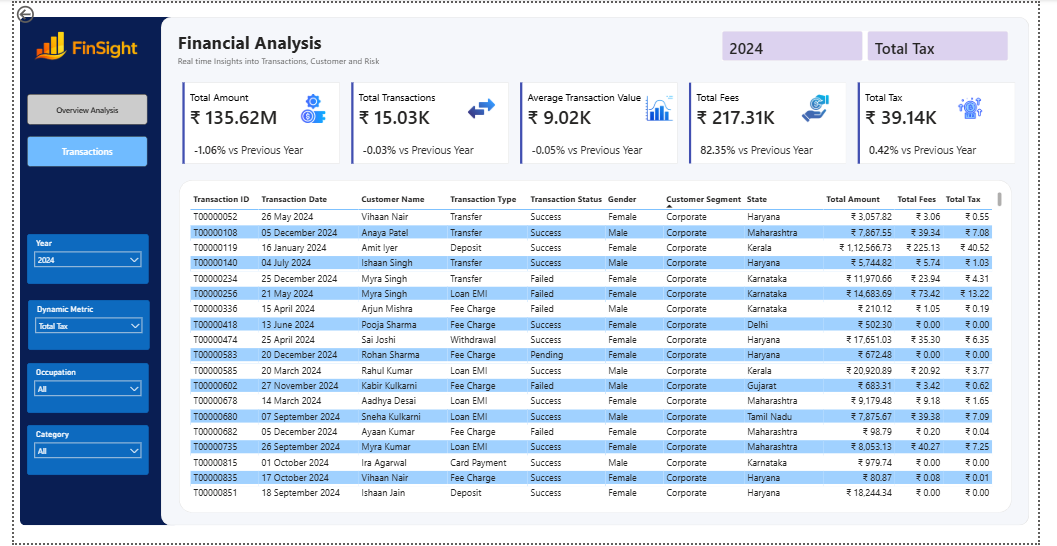

The page's visual inventory and layout, read from the dashboard file:
{"tool":"powerbi","page":{"name":"Transactions","canvas":[1800,950],"ordinal":1},"visuals":[{"type":"shape","box":[9.8,24.5,279.6,894.4],"z":0},{"type":"shape","box":[258.4,24.5,1527.3,894.4],"z":1000},{"type":"image","box":[0,39.2,258.4,73.6],"z":2000},{"type":"cardVisual","fields":{"Data":["finance_transactions.Dashboard Title"]},"box":[271.4,24.5,426.8,109.6],"z":3000},{"type":"cardVisual","fields":{"Data":["finance_transactions.Total Amount","finance_transactions.Total Transactions","finance_transactions.Average Transaction Value","finance_transactions.Total Fees","finance_transactions.Total Tax"]},"box":[289.4,134.1,1479.8,155],"z":4000},{"type":"image","box":[498.7,160.2,57.2,50.7],"z":5000},{"type":"image","box":[796.3,160.2,50.7,50.7],"z":6000},{"type":"image","box":[1385,160.2,50,50],"z":7000},{"type":"image","box":[1110.3,160.2,50,50],"z":8000},{"type":"image","box":[1656.4,160.2,50,50.7],"z":9000},{"type":"shape","box":[289.4,310.7,1465.1,585.4],"z":10000},{"type":"cardVisual","fields":{"Data":["finance_transactions.Selected Year","finance_transactions.Selected Dynamic Measure"]},"box":[1239.5,44.1,515.1,63.8],"z":11000},{"type":"tableEx","fields":{"Values":["finance_transactions.transaction_id","finance_transactions.transaction_date","customers.customer_name","finance_transactions.transaction_type","finance_transactions.transaction_status","customers.gender","customers.customer_segment","customers.state","finance_transactions.Total Amount","finance_transactions.Total Fees","finance_transactions.Total Tax"]},"box":[304.1,327,1439,554.3],"z":12000},{"type":"actionButton","box":[0,0,100,40],"z":13000},{"type":"slicer","fields":{"Values":["Calendar Table.Year"]},"box":[22.9,407.2,214.2,88.3],"z":14000},{"type":"slicer","fields":{"Values":["Dynamic Metric.Dynamic Metric"]},"box":[24.5,521.6,214.2,88.3],"z":15000},{"type":"slicer","fields":{"Values":["customers.occupation"]},"box":[22.9,632.8,214.2,88.3],"z":16000},{"type":"slicer","fields":{"Values":["finance_transactions.merchant_category"]},"box":[22.9,742.4,214.2,88.3],"z":17000},{"type":"pageNavigator","box":[22.9,160.2,212.6,129.2],"z":18000}]}

Visuals, with their boxes on the page's 1800x950 design canvas (x1, y1, x2, y2). These are canvas units, not pixel positions in the 1057x546 screenshot, which may show the page scaled, cropped or inside an application window:
shape: [x1=10, y1=24, x2=289, y2=919]
shape: [x1=258, y1=24, x2=1786, y2=919]
image: [x1=0, y1=39, x2=258, y2=113]
cardVisual - finance_transactions.Dashboard Title: [x1=271, y1=24, x2=698, y2=134]
cardVisual - finance_transactions.Total Amount x finance_transactions.Total Transactions: [x1=289, y1=134, x2=1769, y2=289]
image: [x1=499, y1=160, x2=556, y2=211]
image: [x1=796, y1=160, x2=847, y2=211]
image: [x1=1385, y1=160, x2=1435, y2=210]
image: [x1=1110, y1=160, x2=1160, y2=210]
image: [x1=1656, y1=160, x2=1706, y2=211]
shape: [x1=289, y1=311, x2=1754, y2=896]
cardVisual - finance_transactions.Selected Year x finance_transactions.Selected Dynamic Measure: [x1=1240, y1=44, x2=1755, y2=108]
tableEx - finance_transactions.transaction_id x finance_transactions.transaction_date: [x1=304, y1=327, x2=1743, y2=881]
actionButton: [x1=0, y1=0, x2=100, y2=40]
slicer - Calendar Table.Year: [x1=23, y1=407, x2=237, y2=496]
slicer - Dynamic Metric.Dynamic Metric: [x1=24, y1=522, x2=239, y2=610]
slicer - customers.occupation: [x1=23, y1=633, x2=237, y2=721]
slicer - finance_transactions.merchant_category: [x1=23, y1=742, x2=237, y2=831]
pageNavigator: [x1=23, y1=160, x2=236, y2=289]
